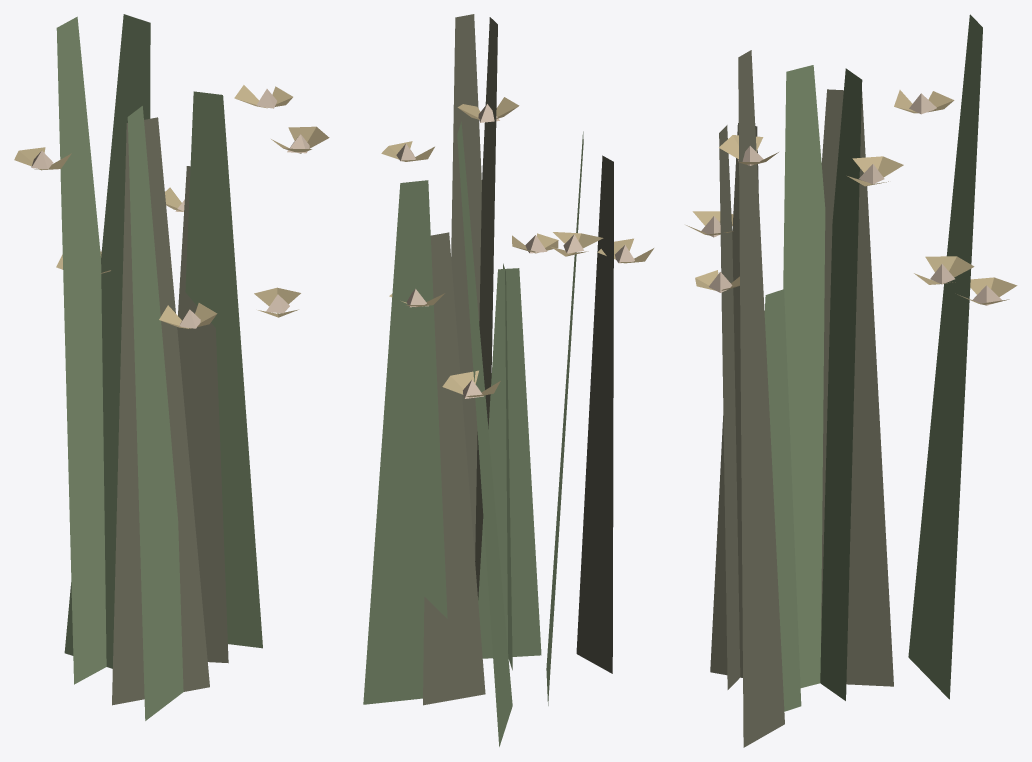
Rendered from cao.luwei@flowering__winter.glb.
3 views of the same model, side by side, from view 1: azimuth 30°, elevation 25°; view 2: azimuth 150°, elevation 25°; view 3: azimuth 270°, elevation 25° (orthographic). The views are drawn at different scales.
Parts seen in each view (by area): view 1: cao.luwei@flowering__winter; view 2: cao.luwei@flowering__winter; view 3: cao.luwei@flowering__winter.
Part boxes in pixels (box(x1,y1,x2,y2)): cao.luwei@flowering__winter: box(14, 14, 329, 720); cao.luwei@flowering__winter: box(363, 14, 653, 746); cao.luwei@flowering__winter: box(686, 14, 1017, 747).
Bounding box in the file's own units: 0.9454 × 2.41 × 1.08.
